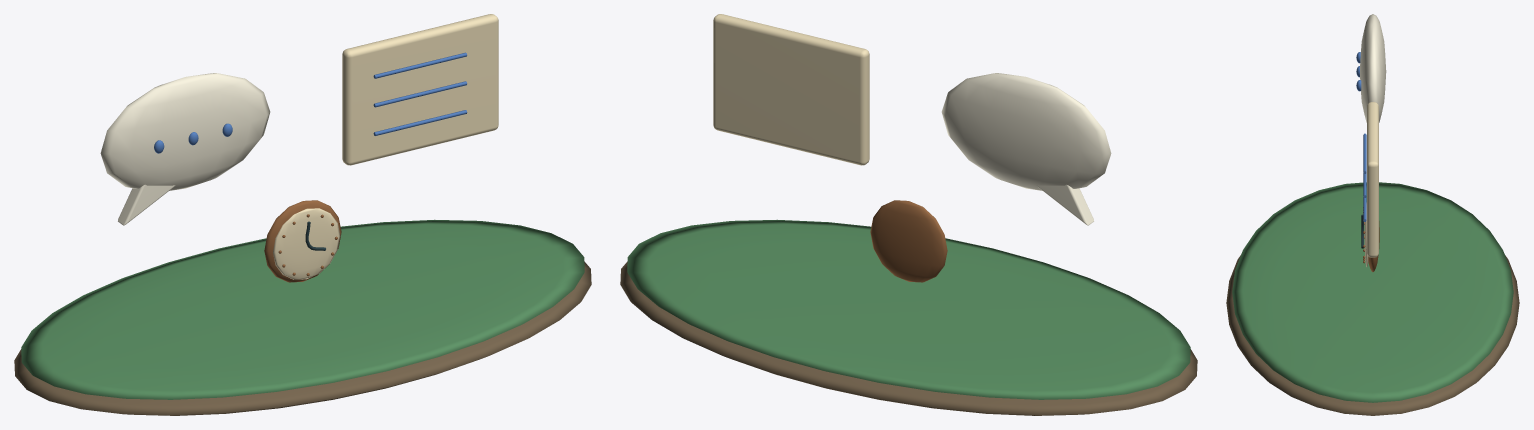
The model's file is complete-first-reported-paper.glb.
The picture shows the model from 3 angles, left to right: view 1: azimuth 30°, elevation 25°; view 2: azimuth 150°, elevation 25°; view 3: azimuth 270°, elevation 25°; orthographic projection. The views are drawn at different scales.
Visible parts, largest first — view 1: complete-first-reported-paper_surface_01, complete-first-reported-paper_surface_04, complete-first-reported-paper_surface_02, complete-first-reported-paper_surface_00, complete-first-reported-paper_surface_03, complete-first-reported-paper_surface_05; view 2: complete-first-reported-paper_surface_01, complete-first-reported-paper_surface_04, complete-first-reported-paper_surface_02, complete-first-reported-paper_surface_00, complete-first-reported-paper_surface_05; view 3: complete-first-reported-paper_surface_01, complete-first-reported-paper_surface_00, complete-first-reported-paper_surface_02, complete-first-reported-paper_surface_04, complete-first-reported-paper_surface_03.
Boxes of the visible parts, x1=… form: complete-first-reported-paper_surface_01: x1=21, y1=219, x2=584, y2=399; complete-first-reported-paper_surface_04: x1=273, y1=14, x2=498, y2=279; complete-first-reported-paper_surface_02: x1=100, y1=73, x2=270, y2=225; complete-first-reported-paper_surface_00: x1=14, y1=261, x2=591, y2=415; complete-first-reported-paper_surface_03: x1=154, y1=52, x2=467, y2=153; complete-first-reported-paper_surface_05: x1=264, y1=200, x2=341, y2=282; complete-first-reported-paper_surface_01: x1=627, y1=219, x2=1190, y2=399; complete-first-reported-paper_surface_04: x1=713, y1=14, x2=941, y2=228; complete-first-reported-paper_surface_02: x1=941, y1=73, x2=1111, y2=225; complete-first-reported-paper_surface_00: x1=620, y1=261, x2=1197, y2=415; complete-first-reported-paper_surface_05: x1=870, y1=200, x2=947, y2=282; complete-first-reported-paper_surface_01: x1=1232, y1=182, x2=1513, y2=402; complete-first-reported-paper_surface_00: x1=1226, y1=255, x2=1519, y2=415; complete-first-reported-paper_surface_02: x1=1360, y1=14, x2=1386, y2=122; complete-first-reported-paper_surface_04: x1=1364, y1=102, x2=1378, y2=266; complete-first-reported-paper_surface_03: x1=1356, y1=52, x2=1366, y2=221.
Size of the model in its own units: 4.56 by 2.29 by 2.5.
